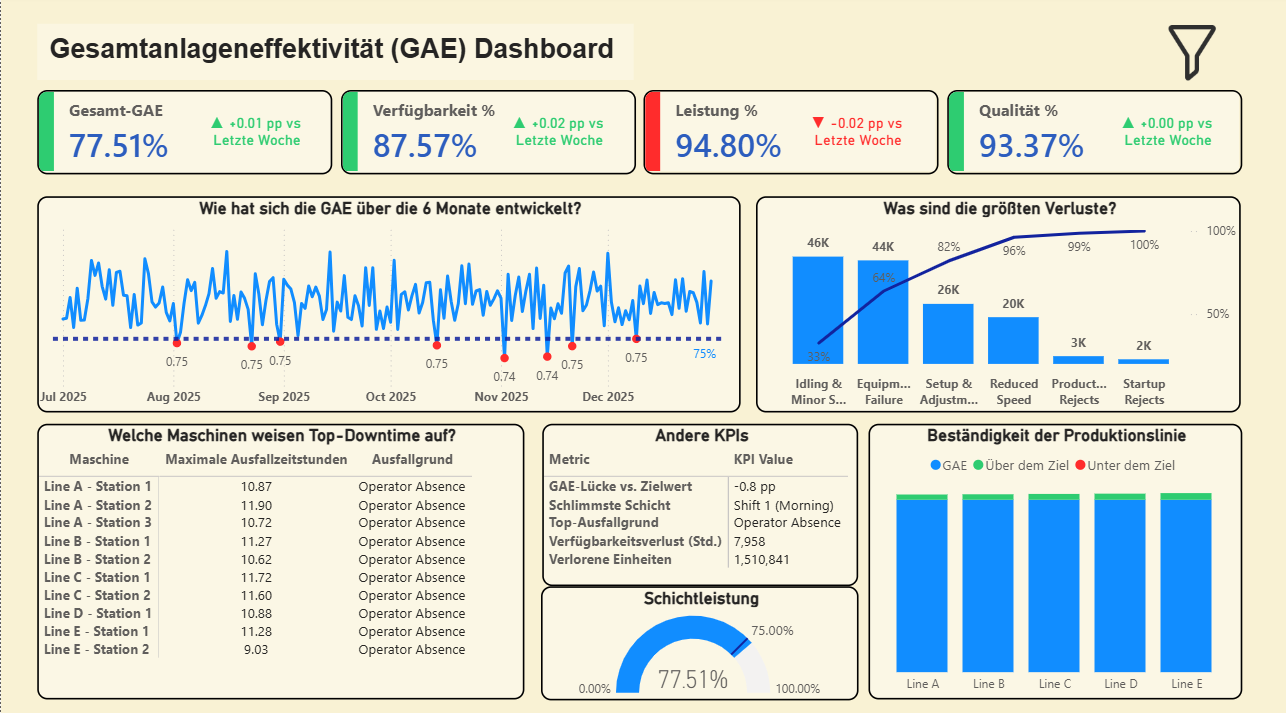

This screenshot's page, from the dashboard's own definition file:
{"tool":"powerbi","page":{"name":"OEE","canvas":[1280,720],"ordinal":0},"visuals":[{"type":"cardVisual","fields":{"Data":["Measure.Availability %"]},"box":[337.9,95,293.7,83.6],"z":0},{"type":"card","fields":{"Values":["Measure.Availability vs Last Week Text"]},"box":[495.1,108.4,121.6,56.4],"z":1000},{"type":"cardVisual","fields":{"Data":["Measure.Quality %"]},"box":[941.8,95,293.7,83.6],"z":2000},{"type":"card","fields":{"Values":["Measure.Quality vs Last Week Text"]},"box":[1101,108.4,121.6,56.4],"z":3000},{"type":"cardVisual","fields":{"Data":["Measure.Performance %"]},"box":[639.9,95,293.7,83.6],"z":4000},{"type":"card","fields":{"Values":["Measure.Performance vs Last Week Text"]},"box":[792.7,108.4,121.6,56.4],"z":5000},{"type":"cardVisual","fields":{"Data":["Measure.OEE Overall"]},"box":[36,95,293.7,83.6],"z":6000},{"type":"card","fields":{"Values":["Measure.OEE vs Last Week Text"]},"box":[193.6,108.4,121.6,56.4],"z":7000},{"type":"lineChart","title":"Wie hat sich die GAE über die 6 Monate entwickelt?","fields":{"Y":["Measure.OEE Overall","Measure.OEE Overall_75"],"Category":["DimDate.FullDate.Variation.Date Hierarchy.Year","DimDate.FullDate.Variation.Date Hierarchy.Quarter","DimDate.FullDate.Variation.Date Hierarchy.Month","DimDate.FullDate.Variation.Date Hierarchy.Day"]},"box":[36.4,200,700,215.5],"z":8000},{"type":"lineStackedColumnComboChart","title":"Was sind die größten Verluste?","fields":{"Category":["DimDowntimeReason.LossCategory"],"Y":["Measure.Total Downtime Min"],"Y2":["Measure.Cumulative Downtime %"]},"box":[751.8,200,482.7,215.5],"z":9000},{"type":"pivotTable","title":"Welche Maschinen weisen Top-Downtime auf?","fields":{"Values":["Measure.Max Downtime hours","Measure.Reason for Max Downtime"],"Rows":["DimEquipment.EquipmentName"]},"box":[35.5,427.3,484.5,274.5],"z":10000},{"type":"pivotTable","title":"Andere KPIs","fields":{"Values":["KPI Selector.KPI Value"],"Rows":["KPI Selector.Metric"]},"box":[539.1,427.3,314.5,146.4],"z":11000},{"type":"lineStackedColumnComboChart","title":"Beständigkeit der Produktionslinie","fields":{"Y":["Measure.Get min OEE","Measure.Achived OEE","Measure.Target not met OEE"],"Category":["DimEquipment.ProductionLine"]},"box":[863.6,427.3,371.8,274.5],"z":12000},{"type":"image","box":[1148.2,30,74.5,55.5],"z":13000},{"type":"gauge","title":"Schichtleistung","fields":{"Y":["Measure.OEE Overall"],"TargetValue":["Measure.OEE Target"]},"box":[537.3,588.2,316.4,113.6],"z":13500},{"type":"textbox","box":[36.4,29.1,593.6,56.4],"z":16000}]}

Visuals, with their boxes in screenshot pixels (x1, y1, x2, y2), scaled from the page's 1280x720 canvas onto the 1286x713 screenshot:
cardVisual - Measure.Availability %: locate(339, 94, 635, 177)
card - Measure.Availability vs Last Week Text: locate(497, 107, 620, 163)
cardVisual - Measure.Quality %: locate(946, 94, 1241, 177)
card - Measure.Quality vs Last Week Text: locate(1106, 107, 1228, 163)
cardVisual - Measure.Performance %: locate(643, 94, 938, 177)
card - Measure.Performance vs Last Week Text: locate(796, 107, 919, 163)
cardVisual - Measure.OEE Overall: locate(36, 94, 331, 177)
card - Measure.OEE vs Last Week Text: locate(195, 107, 317, 163)
"Wie hat sich die GAE über die 6 Monate entwickelt?" lineChart: locate(37, 198, 740, 411)
"Was sind die größten Verluste?" lineStackedColumnComboChart: locate(755, 198, 1240, 411)
"Welche Maschinen weisen Top-Downtime auf?" pivotTable: locate(36, 423, 522, 695)
"Andere KPIs" pivotTable: locate(542, 423, 858, 568)
"Beständigkeit der Produktionslinie" lineStackedColumnComboChart: locate(868, 423, 1241, 695)
image: locate(1154, 30, 1228, 85)
"Schichtleistung" gauge: locate(540, 582, 858, 695)
textbox: locate(37, 29, 633, 85)
